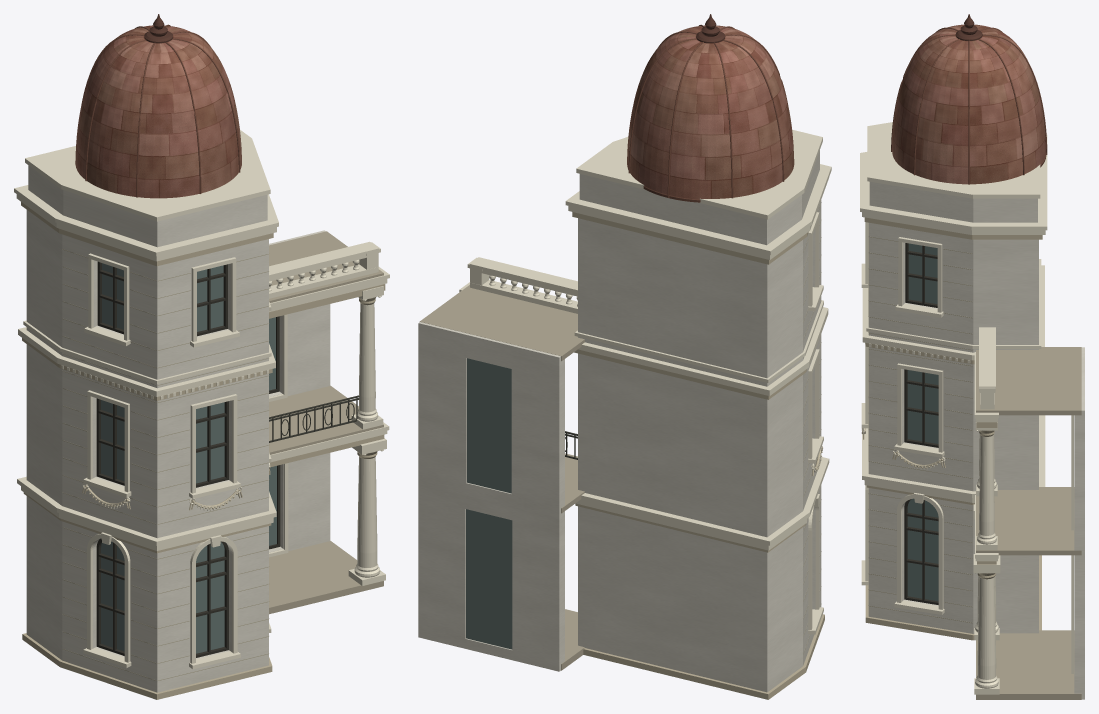
File: jingan-rong-residence-garden-tower-web.glb
3 renders of one model, left to right at view 1: azimuth 30°, elevation 25°; view 2: azimuth 150°, elevation 25°; view 3: azimuth 270°, elevation 25°, orthographic. The views are drawn at different scales.
Visible parts, largest first — view 1: 荣氏花园住宅花园角塔与首间柱廊; view 2: 荣氏花园住宅花园角塔与首间柱廊; view 3: 荣氏花园住宅花园角塔与首间柱廊.
Boxes of the visible parts, left/top/right/bottom form: 荣氏花园住宅花园角塔与首间柱廊: left=14, top=14, right=389, bottom=699; 荣氏花园住宅花园角塔与首间柱廊: left=418, top=14, right=831, bottom=699; 荣氏花园住宅花园角塔与首间柱廊: left=860, top=14, right=1084, bottom=699.
Bounding box in the file's own units: 9.92 × 17.78 × 6.22.
11 materials, 2 textured.
